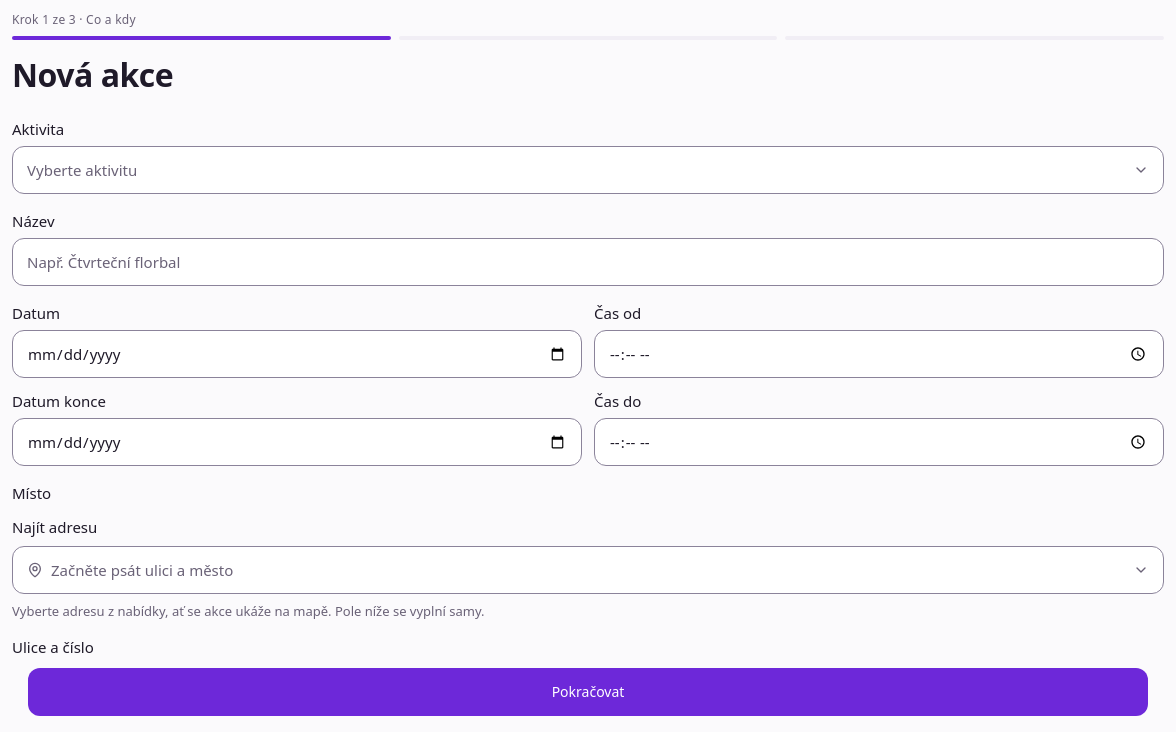
Test: EventForm on a phone › follows the start date with the end date until it is set
The image size is (1176, 732).
Type "2030-01-15" into the date field labelled "Datum". click: (297, 354)
box: [12,330,582,378]
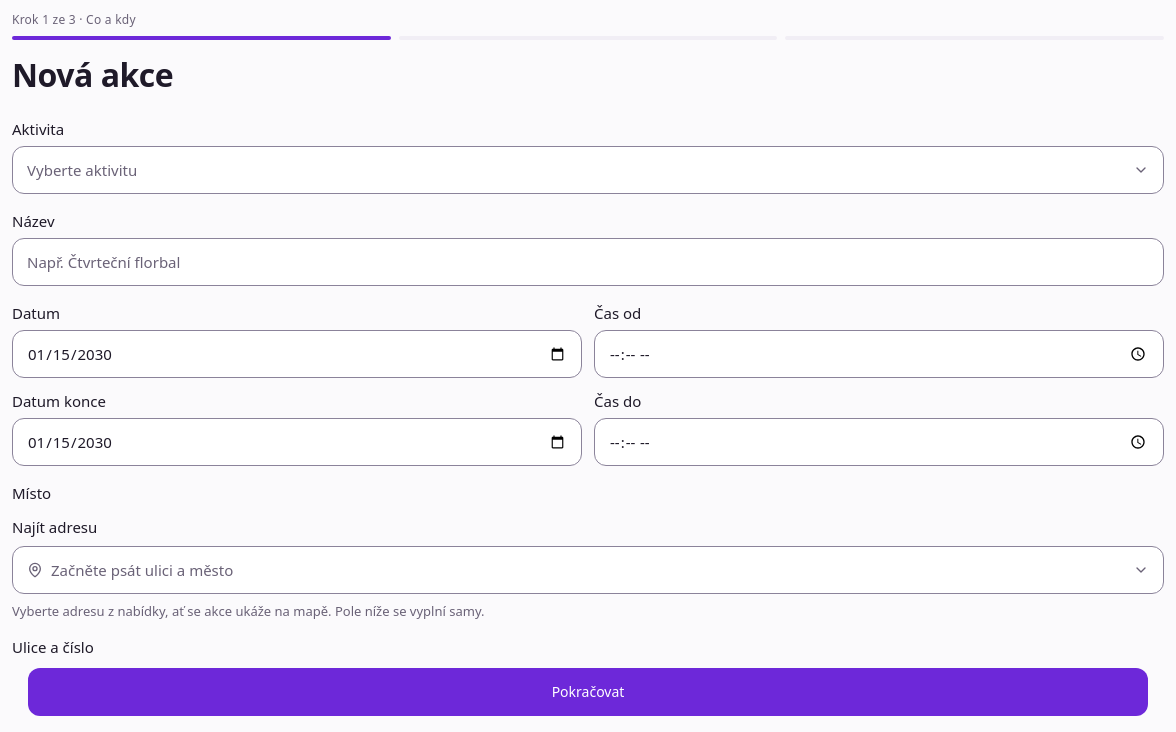
Expected: the date field labelled "Datum konce" holds "2030-01-15", [12,418,582,466]
